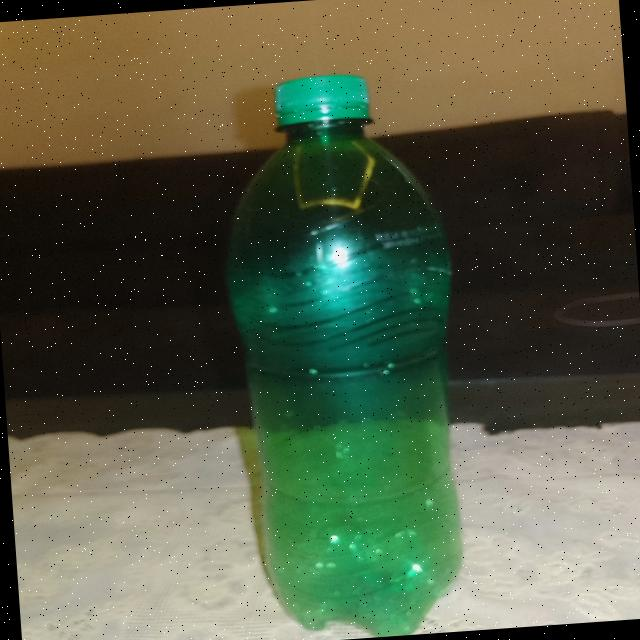bottle: (198, 47, 491, 640)
cap: (264, 65, 377, 144)
